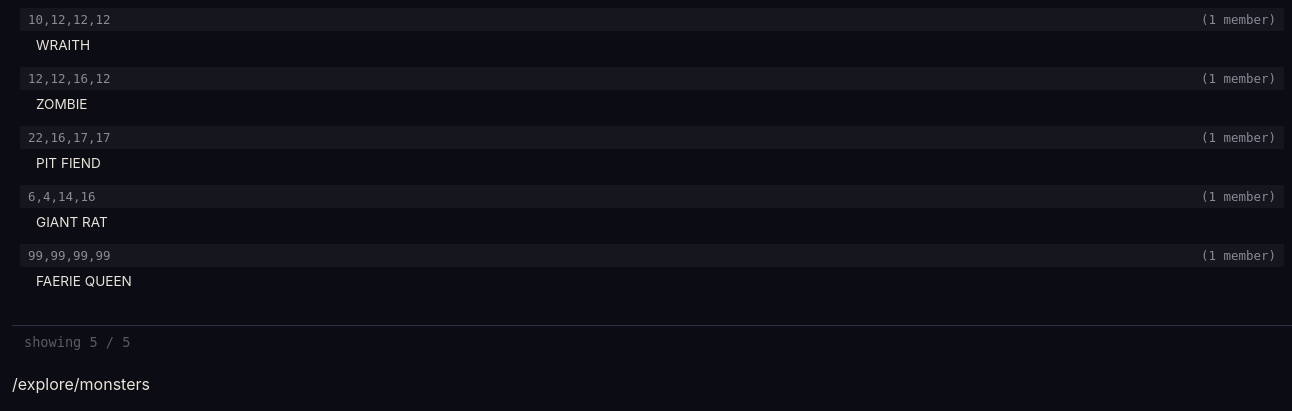
Test case: MonsterListFamilies › clicking a monster name navigates to its slug
The image size is (1292, 411).
Click the button "GIANT RAT": (72, 222) left=28, top=212, right=1284, bottom=232
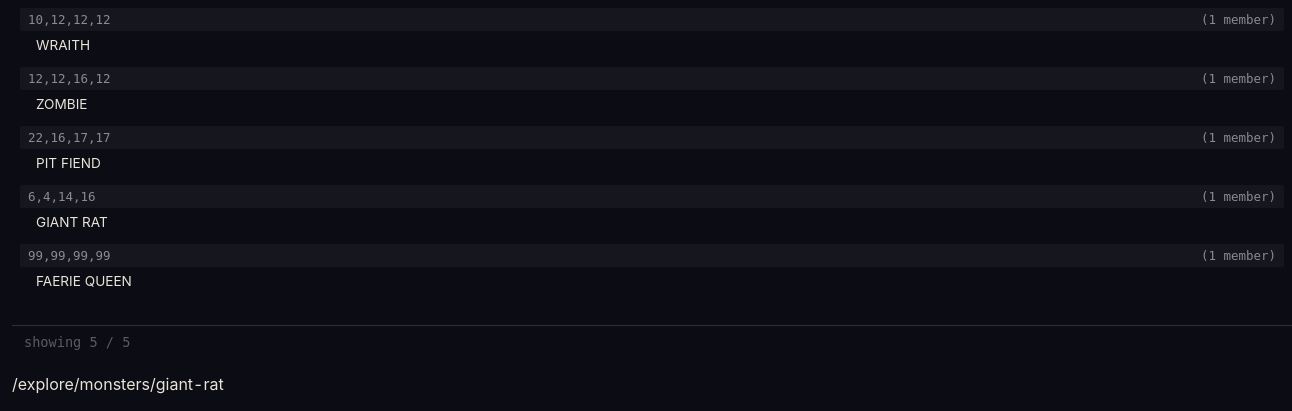
Check: the text with test id "location" reads "/explore/monsters/giant-rat", box left=12, top=374, right=224, bottom=394
